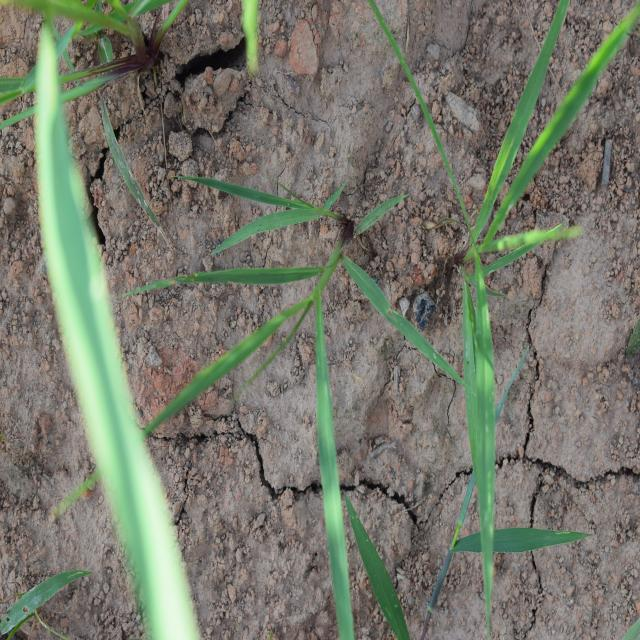green_foxtail: (430, 24, 614, 526), (175, 150, 409, 540)
